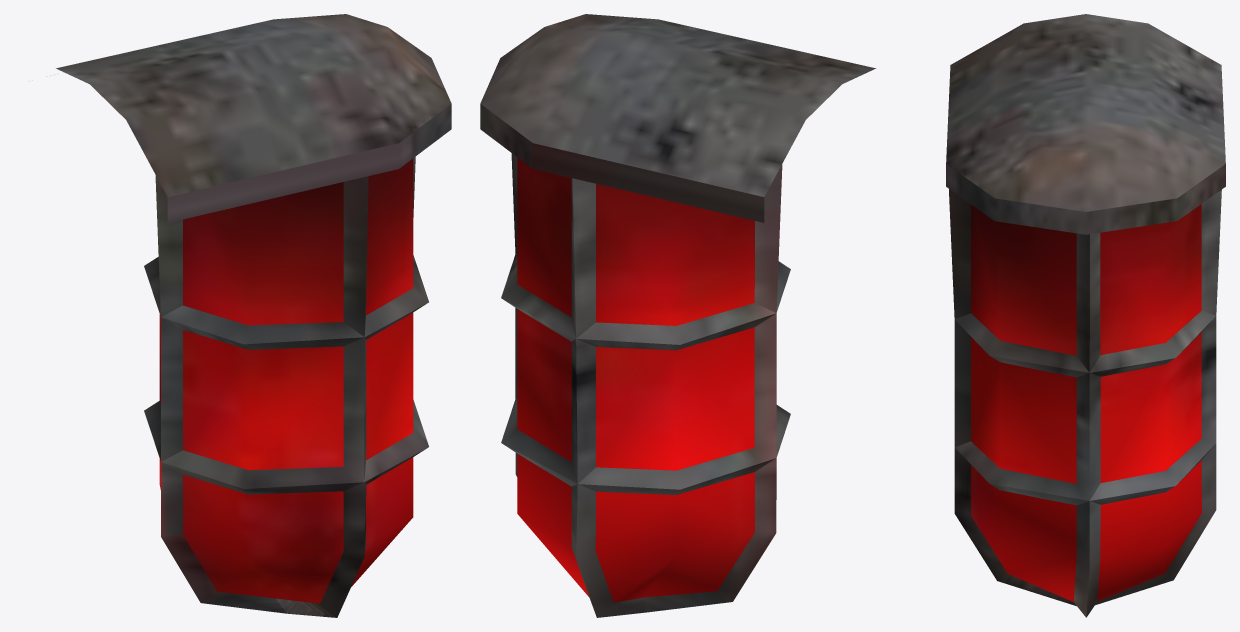
File: light_cagelight01_on.glb
3 renders of one model, left to right at view 1: azimuth 30°, elevation 25°; view 2: azimuth 150°, elevation 25°; view 3: azimuth 270°, elevation 25°, orthographic. The views are drawn at different scales.
Parts seen in each view (by area): view 1: 0_cagebulb01; view 2: 0_cagebulb01; view 3: 0_cagebulb01.
Part boxes in pixels (x1,y1,x2,y2): 0_cagebulb01: (56,14,451,617); 0_cagebulb01: (480,14,875,617); 0_cagebulb01: (946,14,1225,617).
Bounding box in the file's own units: 0.1836 × 0.296 × 0.1472.
1 material, 1 textured.
